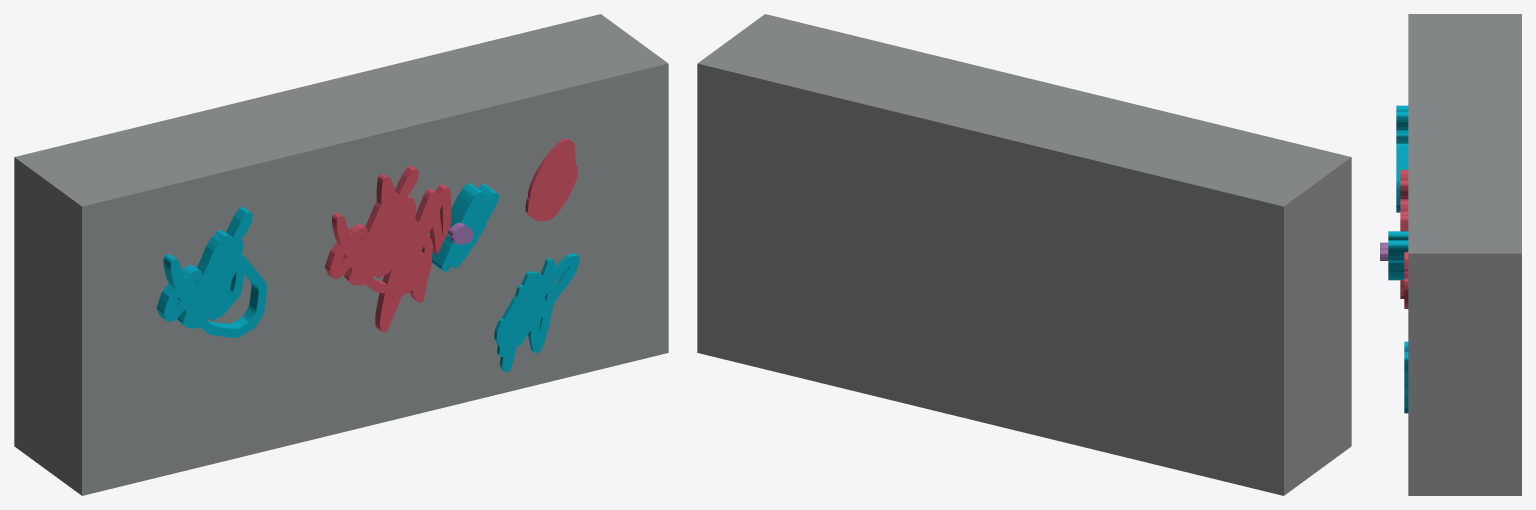
File: Paintball Wall.glb
3 views of the same model, side by side, from view 1: azimuth 30°, elevation 25°; view 2: azimuth 150°, elevation 25°; view 3: azimuth 270°, elevation 25° (orthographic). The views are drawn at different scales.
Parts seen in each view (by area): view 1: Mesh_Mesh_head_geo.001_lambert2SG.001; view 2: Mesh_Mesh_head_geo.001_lambert2SG.001; view 3: Mesh_Mesh_head_geo.001_lambert2SG.001.
Boxes of the visible parts, x1=… form: Mesh_Mesh_head_geo.001_lambert2SG.001: x1=14, y1=14, x2=668, y2=495; Mesh_Mesh_head_geo.001_lambert2SG.001: x1=697, y1=14, x2=1351, y2=495; Mesh_Mesh_head_geo.001_lambert2SG.001: x1=1380, y1=14, x2=1521, y2=495.
Size of the model in its own units: 140 by 66 by 35.
